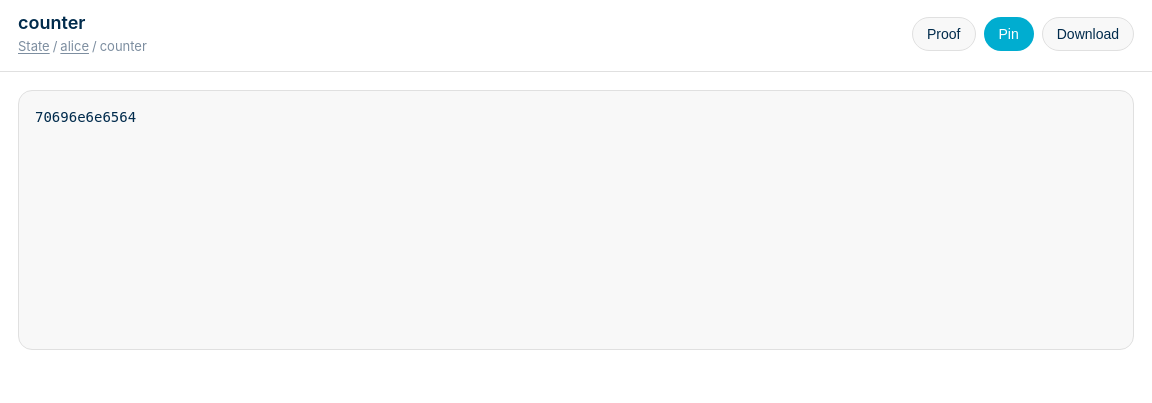
ExplorerContent › does not retain an optimistic pin state after indeterminate readback
Click the button "Pin" at (1009, 34), box [984,17,1034,51]
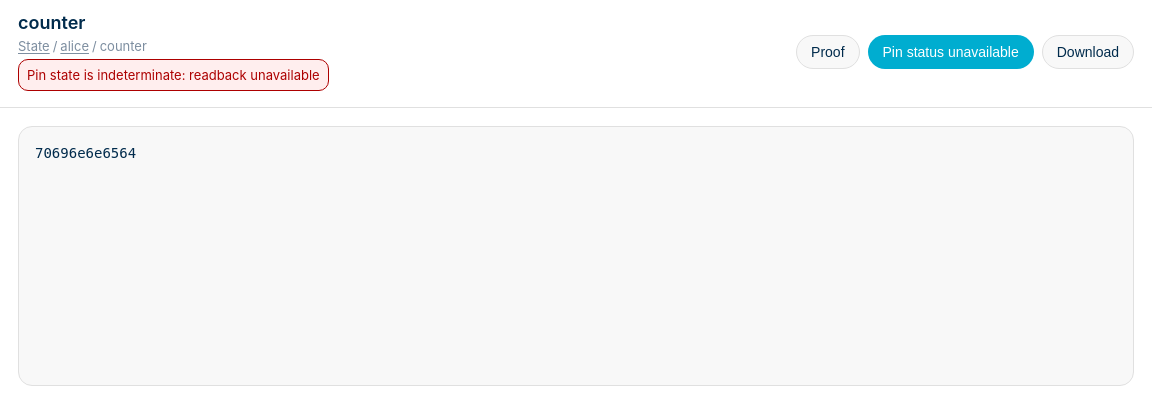
Check: the button "Pin status unavailable" is disabled, box [868,35,1034,69]
Check: the text "Pin state is indeterminate: readback unavailable" is shown, box [18,59,329,91]
